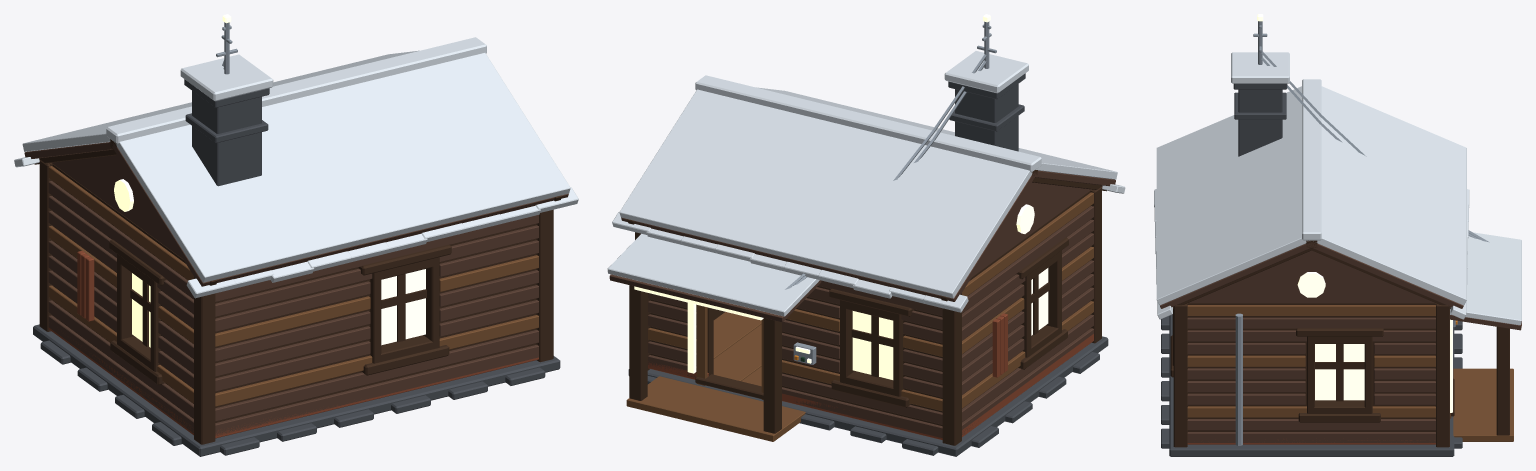
Rendered from SnowCabin.fbx.
3 views of the same model, side by side, from view 1: azimuth 30°, elevation 25°; view 2: azimuth 150°, elevation 25°; view 3: azimuth 270°, elevation 25° (orthographic). The views are drawn at different scales.
Visible parts, largest first — view 1: Cabin_Walls, Cabin_RoofSnow, Cabin_Windows, Cabin_Foundation, Cabin_Chimney, Cabin_Roof; view 2: Cabin_RoofSnow, Cabin_Walls, Cabin_Porch, Cabin_Windows, Cabin_Chimney, Cabin_Foundation, Cabin_Floor, Cabin_Roof, Cabin_Door; view 3: Cabin_RoofSnow, Cabin_Walls, Cabin_Porch, Cabin_Windows, Cabin_Chimney, Cabin_Foundation, Cabin_Roof.
Boxes of the visible parts, x1,y1,x2,y2 form: Cabin_Walls: (39,155,553,444); Cabin_RoofSnow: (14,37,578,298); Cabin_Windows: (109,239,451,385); Cabin_Foundation: (33,324,560,456); Cabin_Chimney: (180,14,273,186); Cabin_Roof: (24,139,568,286); Cabin_RoofSnow: (612,75,1125,312); Cabin_Walls: (635,182,1101,445); Cabin_Porch: (607,233,821,441); Cabin_Windows: (829,237,1068,407); Cabin_Chimney: (785,14,1028,289); Cabin_Foundation: (628,336,1108,456); Cabin_Floor: (713,312,761,386); Cabin_Roof: (621,170,1115,301); Cabin_Door: (695,305,763,399); Cabin_RoofSnow: (1154,79,1469,319); Cabin_Walls: (1173,250,1457,447); Cabin_Porch: (1450,232,1521,441); Cabin_Windows: (1170,309,1383,422); Cabin_Chimney: (1231,14,1489,242); Cabin_Foundation: (1161,314,1462,456); Cabin_Roof: (1160,240,1463,309).
Size of the model in its own units: 806 by 770 by 787.
